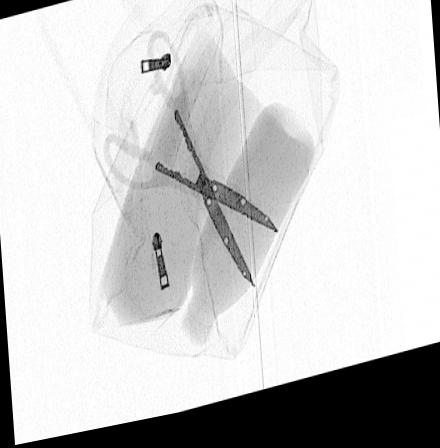Scissors: (102, 34, 279, 298)
